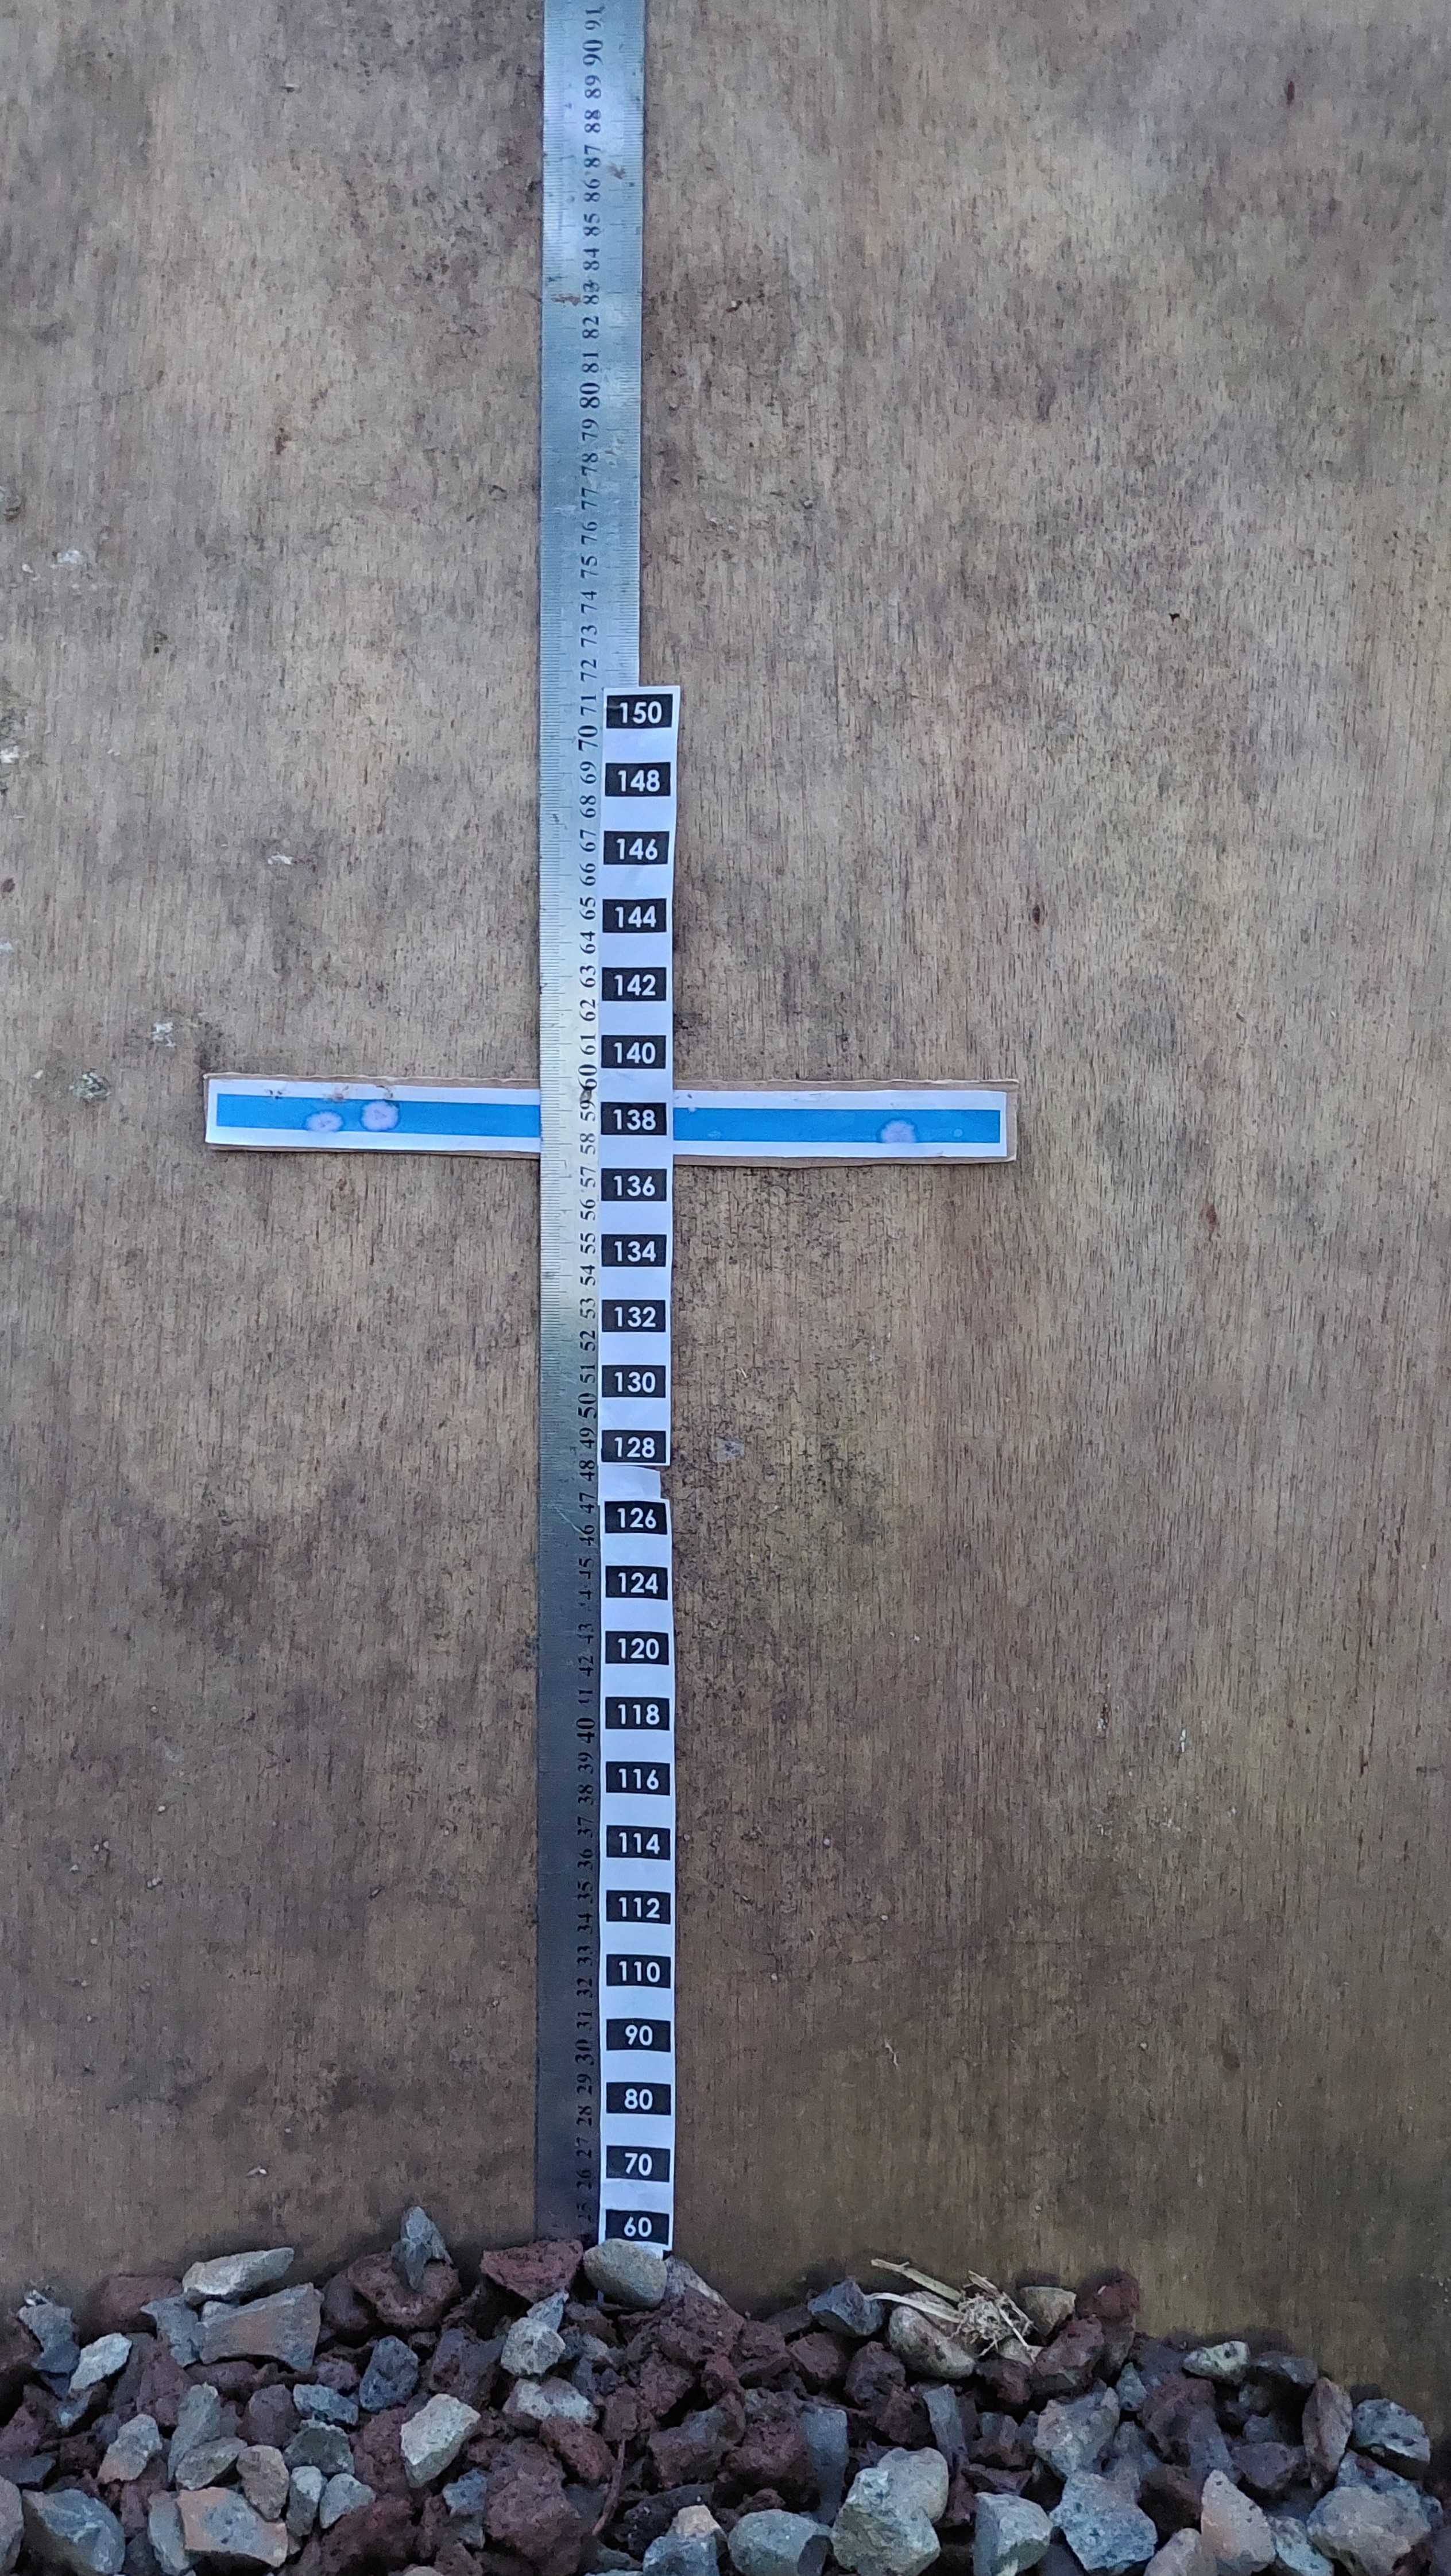kotak_2x1: (602, 2141, 672, 2190), (602, 1622, 672, 1670), (603, 1819, 674, 1867), (600, 1226, 672, 1272), (600, 1691, 672, 1737), (603, 2012, 674, 2058), (603, 690, 676, 734), (602, 826, 674, 870), (600, 1755, 672, 1799), (602, 1950, 674, 1994), (602, 2077, 674, 2121), (598, 893, 672, 936), (600, 961, 671, 1005), (598, 1028, 669, 1072), (598, 1097, 671, 1139), (598, 1162, 671, 1205), (600, 1422, 669, 1467), (602, 1559, 671, 1603), (603, 761, 678, 801), (600, 1361, 669, 1403), (602, 2203, 671, 2245), (602, 1886, 672, 1927), (600, 1497, 669, 1537), (600, 1295, 669, 1334)
mal_biru_150: (211, 1085, 1005, 1150)
